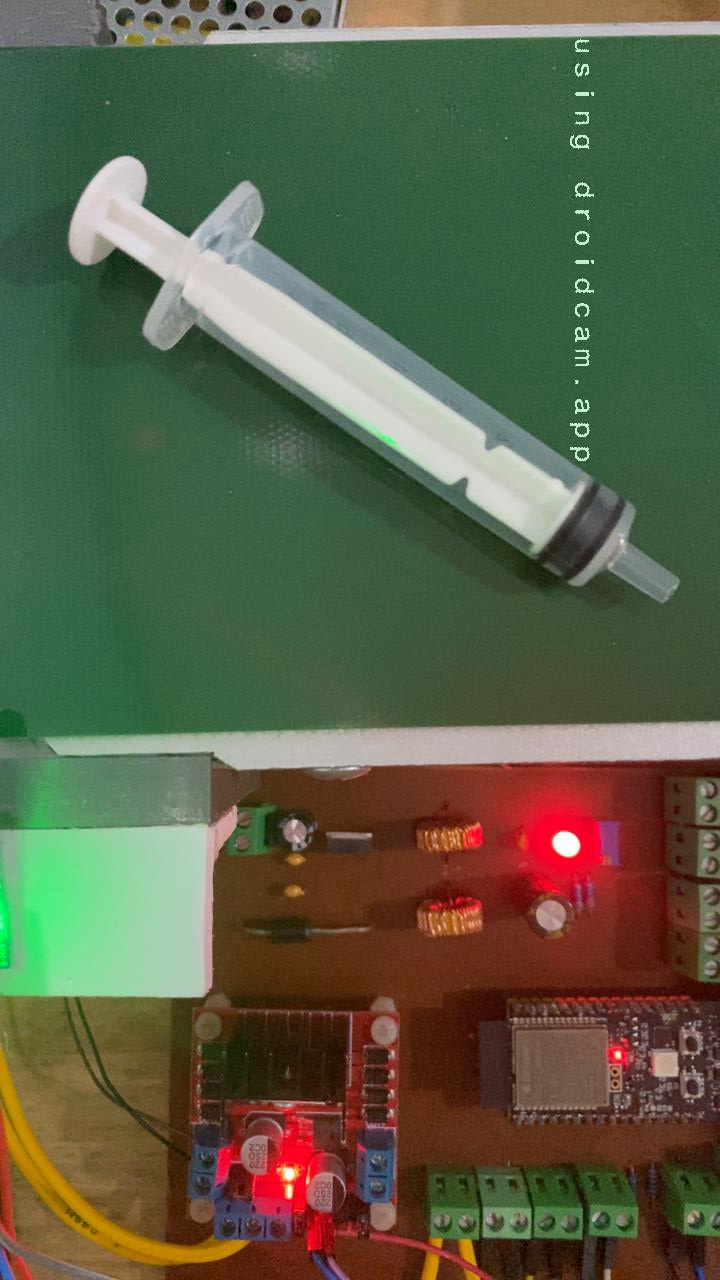syringe: (61, 149, 685, 610)
